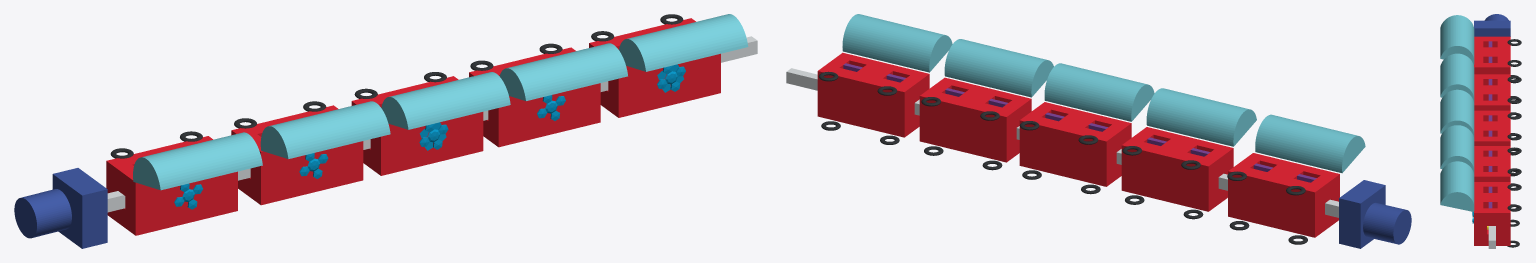
The model's file is hehe.obj.
3 views of the same model, side by side, from view 1: azimuth 30°, elevation 25°; view 2: azimuth 150°, elevation 25°; view 3: azimuth 270°, elevation 25° (orthographic). The views are drawn at different scales.
Visible parts, largest first — view 1: group_0_15277357, group_0_7720667, group_0_3888547, group_0_40919, group_0_2829873, group_0_14541540; view 2: group_0_15277357, group_0_7720667, group_0_3888547, group_0_2829873, group_0_8273816, group_0_14541540; view 3: group_0_15277357, group_0_7720667, group_0_2829873, group_0_3888547, group_0_8273816, group_0_14541540.
Boxes of the visible parts, bbox=[...] form: group_0_15277357: bbox=[106, 18, 720, 235]; group_0_7720667: bbox=[133, 14, 748, 190]; group_0_3888547: bbox=[14, 168, 107, 248]; group_0_40919: bbox=[174, 64, 685, 209]; group_0_2829873: bbox=[110, 14, 683, 158]; group_0_14541540: bbox=[107, 36, 757, 212]; group_0_15277357: bbox=[817, 52, 1339, 237]; group_0_7720667: bbox=[842, 14, 1365, 173]; group_0_3888547: bbox=[1339, 180, 1411, 248]; group_0_2829873: bbox=[818, 71, 1307, 244]; group_0_8273816: bbox=[843, 63, 1316, 182]; group_0_14541540: bbox=[786, 68, 1338, 217]; group_0_15277357: bbox=[1474, 36, 1510, 245]; group_0_7720667: bbox=[1440, 15, 1474, 211]; group_0_2829873: bbox=[1507, 39, 1521, 247]; group_0_3888547: bbox=[1474, 14, 1510, 36]; group_0_8273816: bbox=[1488, 41, 1492, 208]; group_0_14541540: bbox=[1488, 226, 1495, 248].
Size of the model in its own units: 284 by 35.27 by 44.77.
